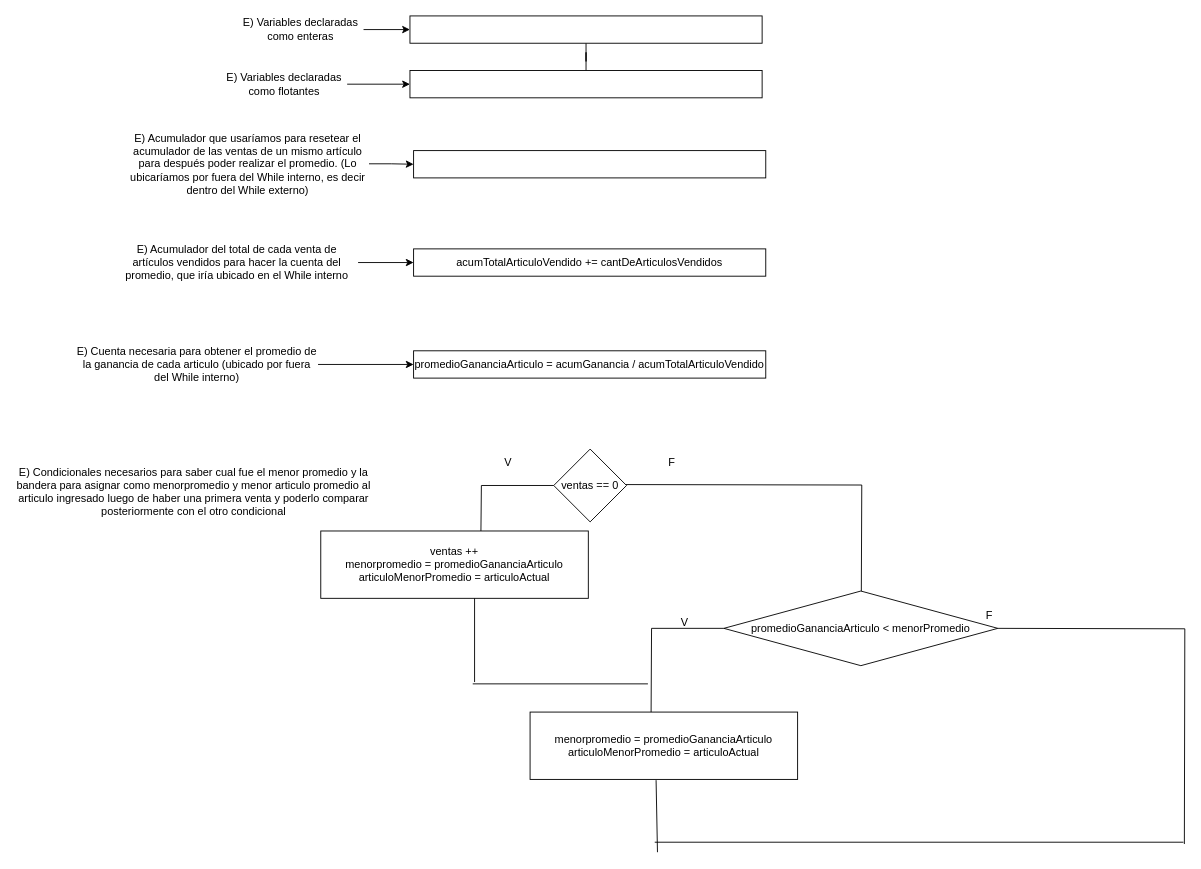
This 1201x869 diagram has some shape labels left out. The shapes that lost their labels are listed below. From the top down, each one's centre as x and y in pixels, then its label:
At pixel 585 29: "ventas = 0, articuloMenorPromedio, acumTotalArticuloVendido;".
At pixel 585 84: "menorPromedio. promedioGnanaciaArticulo = 0".
At pixel 589 164: "acumTotalArticuloVendido = 0".
